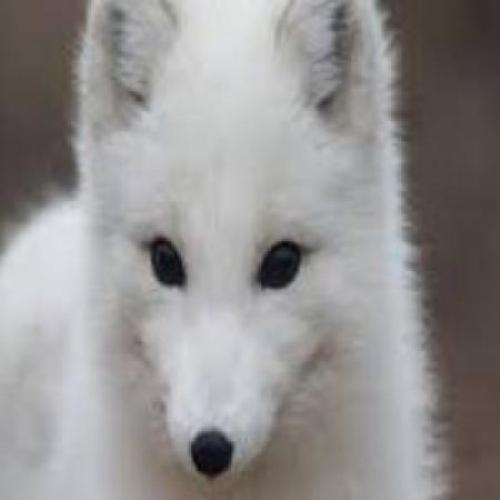arctic_fox-endangered: (8, 7, 442, 493)
